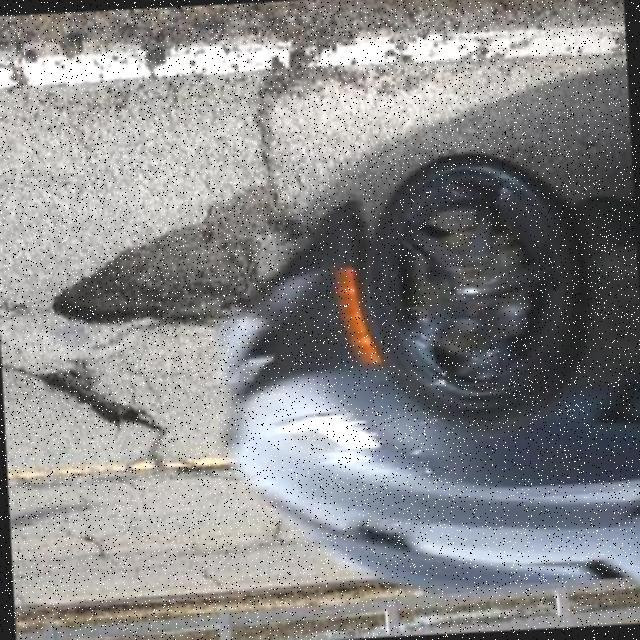Pothole: (48, 183, 299, 330), (34, 361, 163, 432)
